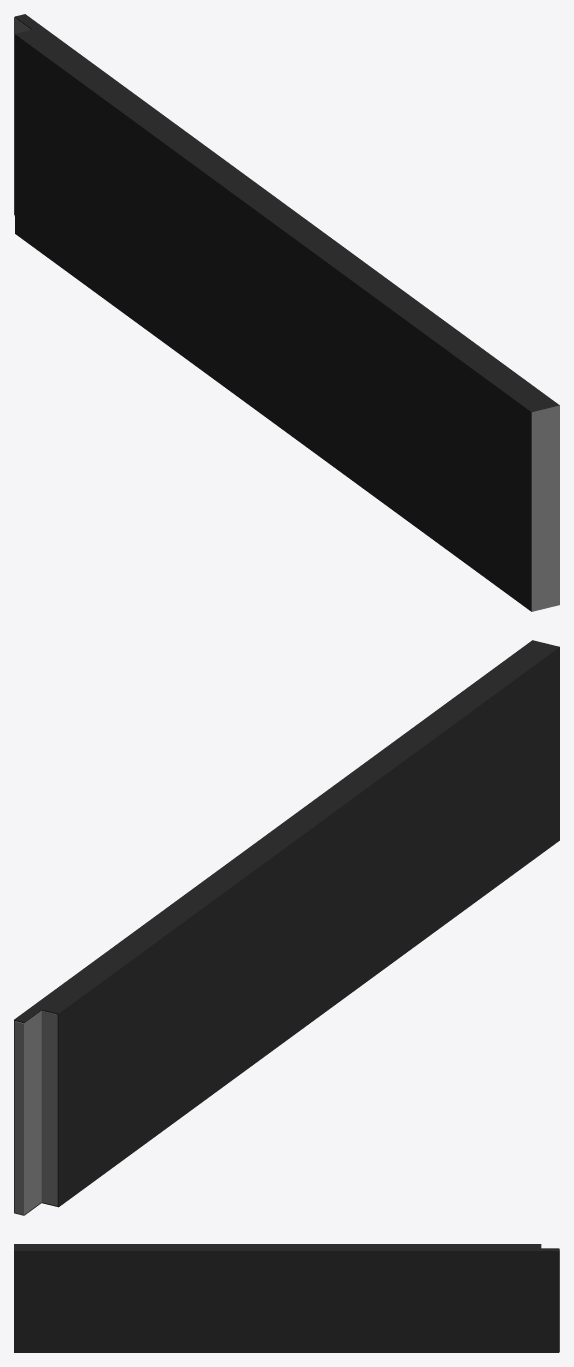
File: mv-boxcap-500-m.glb
3 renders of one model, top to bottom at view 1: azimuth 30°, elevation 25°; view 2: azimuth 150°, elevation 25°; view 3: azimuth 270°, elevation 25°, orthographic. The views are drawn at different scales.
Visible parts, largest first — view 1: geometry_0; view 2: geometry_0; view 3: geometry_0.
Boxes of the visible parts, left/top/right/bottom form: geometry_0: left=14, top=14, right=559, bottom=611; geometry_0: left=14, top=640, right=559, bottom=1215; geometry_0: left=14, top=1244, right=559, bottom=1352.
Bounding box in the file's own units: 0.015 × 0.101 × 0.4907.
Materials: 1 (1 with a texture image).
